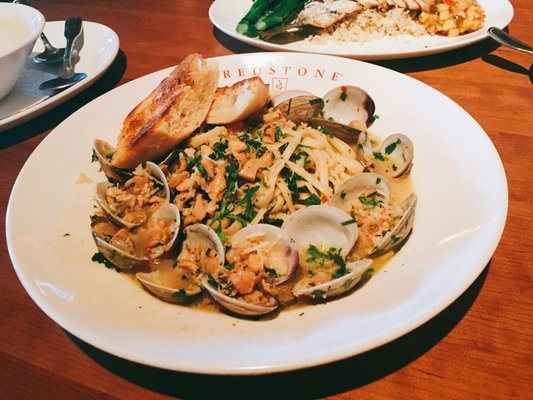salad: (61, 17, 83, 77)
soup: (106, 52, 220, 171)
sushi: (7, 52, 532, 399), (208, 0, 524, 63), (0, 2, 46, 105)
